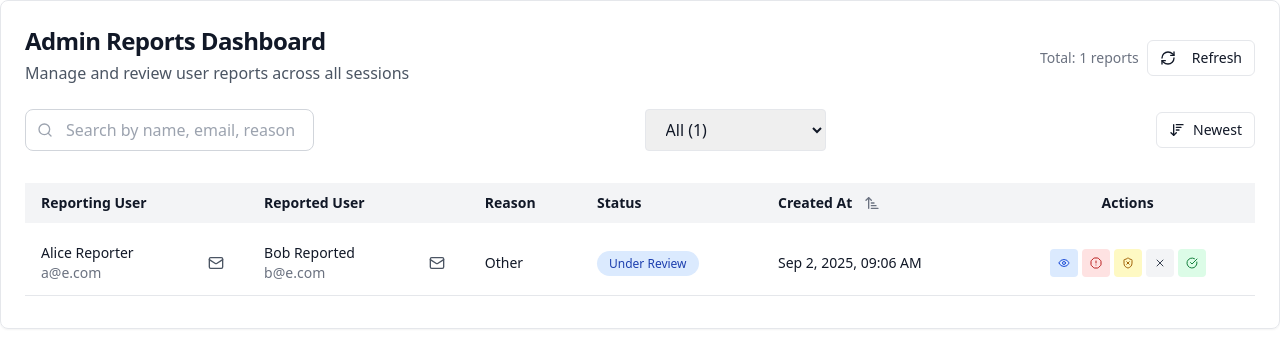
Test: ReportingContent › resolve and dismiss actions
The image size is (1280, 346).
expect the text "Alice Reporter" is shown: met, box [41, 243, 134, 263]
Step 1. Click the button titled "Mark resolved" → [1192, 263], box [1178, 249, 1206, 277]
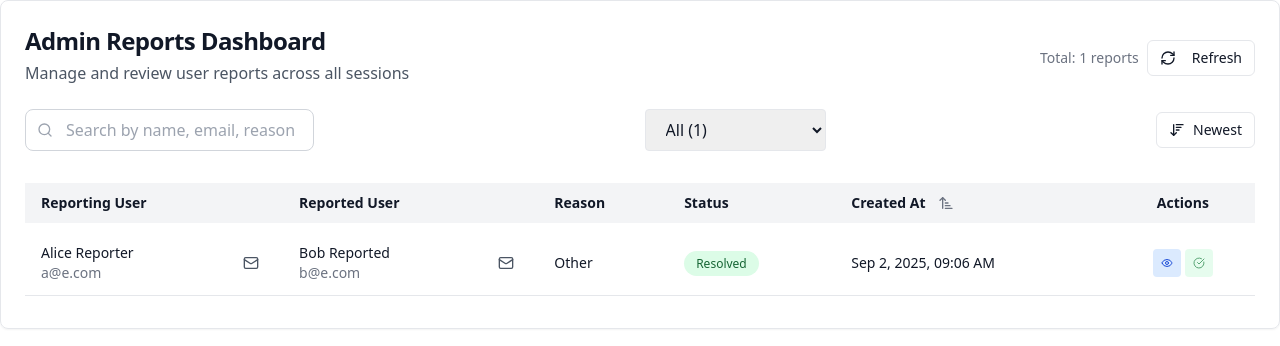
expect the text "Resolved" is shown: met, box [684, 251, 759, 276]
